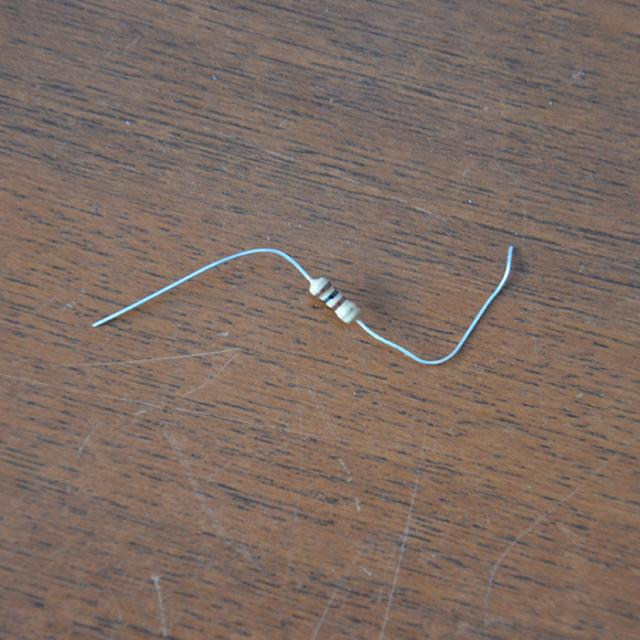Resistor Carbon-Film: (305, 276, 366, 327)
